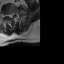CCS_stenosis: (10, 12, 12, 19)
LFS_normal: (13, 9, 15, 16)
LLS_normal: (12, 11, 13, 18)
RFS_normal: (6, 12, 8, 18)
RLS_normal: (8, 12, 10, 19)
